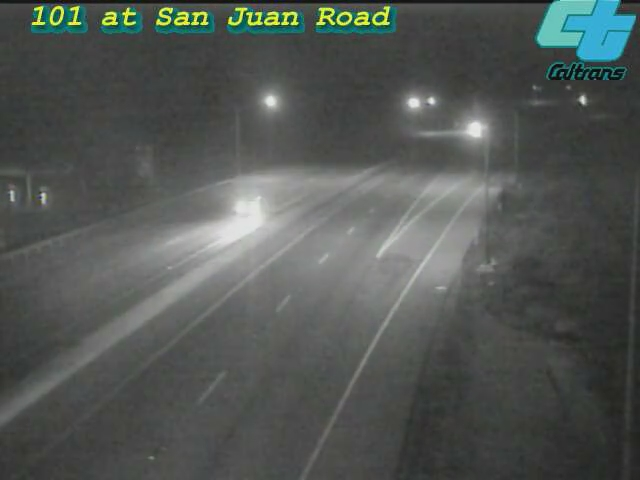vehicle: (203, 168, 283, 248), (450, 104, 500, 154)
